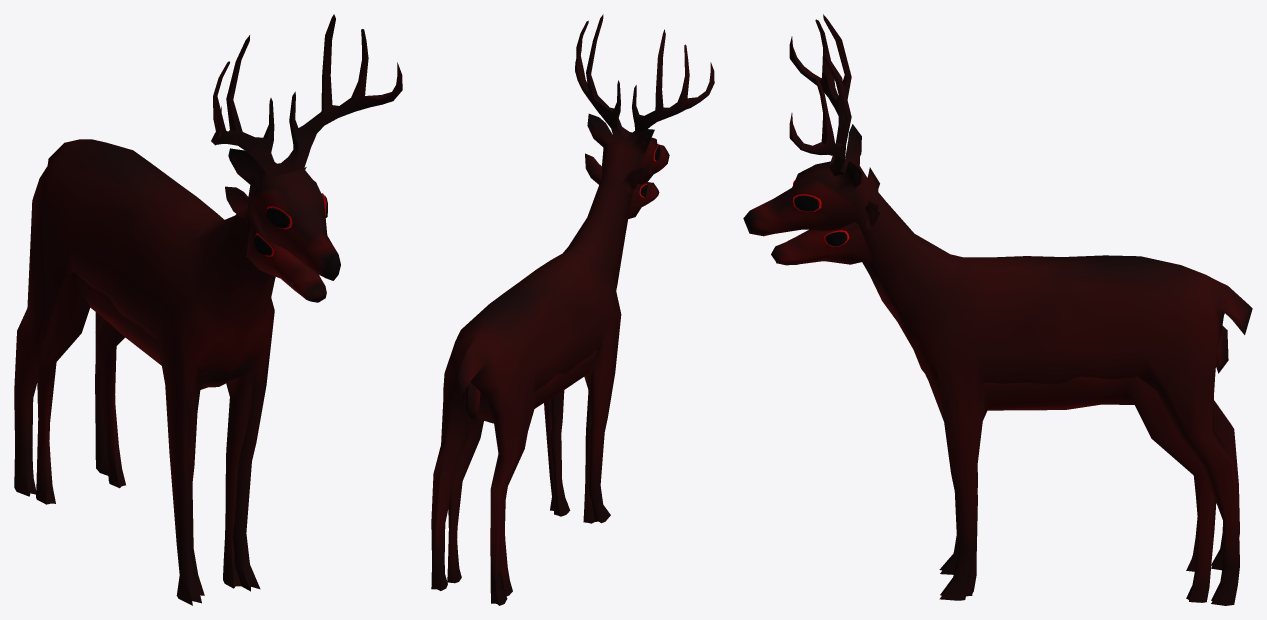
The model's file is Imaginary_MidnightDeer.fbx.
3 views of the same model, side by side, from view 1: azimuth 30°, elevation 25°; view 2: azimuth 150°, elevation 25°; view 3: azimuth 270°, elevation 25° (orthographic). The views are drawn at different scales.
Parts seen in each view (by area): view 1: alt572, alt573; view 2: alt572, alt573; view 3: alt572, alt573.
Part boxes in pixels (left/top/right/bottom): alt572: left=14, top=14, right=402, bottom=605; alt573: left=36, top=167, right=326, bottom=595; alt572: left=431, top=14, right=714, bottom=605; alt573: left=447, top=153, right=659, bottom=596; alt572: left=743, top=14, right=1252, bottom=605; alt573: left=771, top=167, right=1228, bottom=602.
Size of the model in its own units: 69.6 by 221 by 184.
